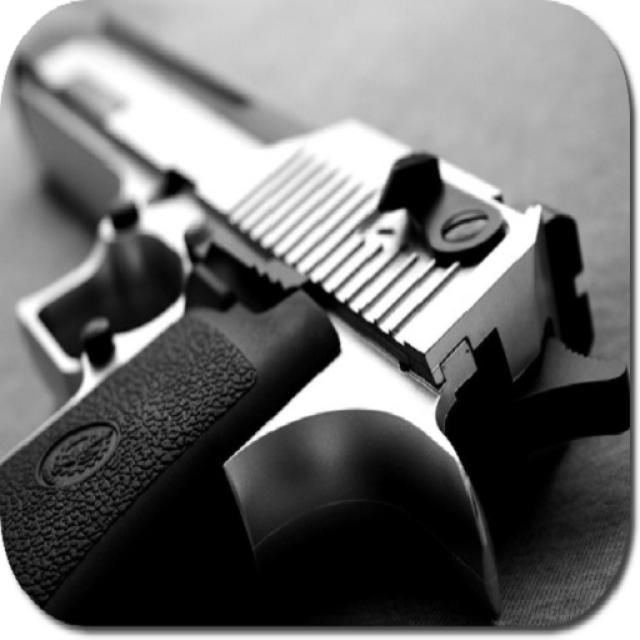handgun: (19, 15, 594, 630)
